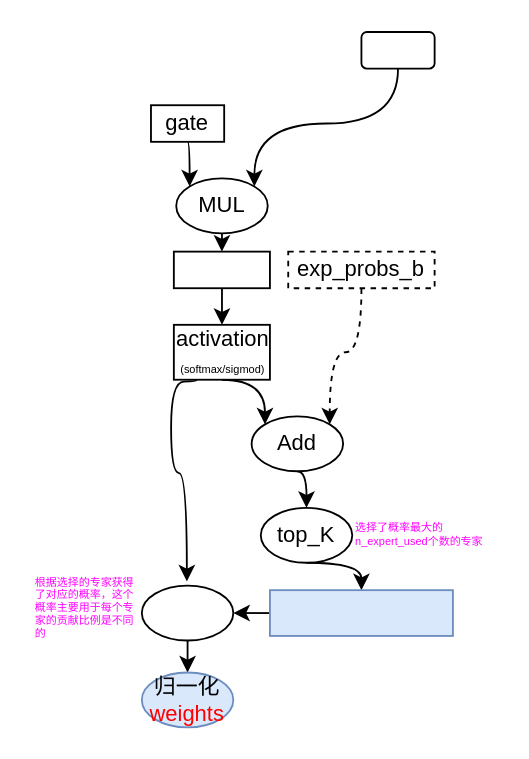
This 529x759 diagram has some shape labels left out. Here are the shapes that lost their labels. From the top down, the centre of each, then its label:
point (397, 49): input
point (221, 269): logits
point (186, 612): get row
point (360, 612): Out_1 selected_experts
